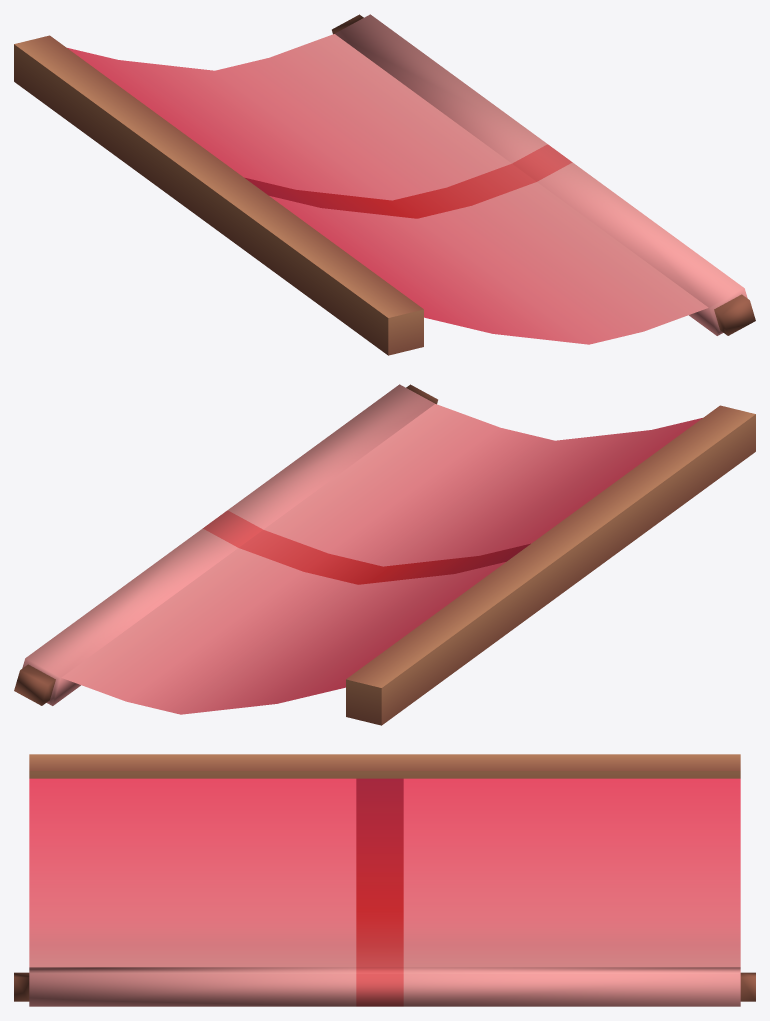
File: Parasol06.fbx
3 views of the same model, one above another, from view 1: azimuth 30°, elevation 25°; view 2: azimuth 150°, elevation 25°; view 3: azimuth 270°, elevation 25° (orthographic). The views are drawn at different scales.
Parts seen in each view (by area): view 1: Parasol06; view 2: Parasol06; view 3: Parasol06.
Part boxes in pixels (bbox=[...]): Parasol06: bbox=[14, 14, 755, 355]; Parasol06: bbox=[14, 384, 755, 725]; Parasol06: bbox=[14, 754, 755, 1006].
Bounding box in the file's own units: 0.8901 × 0.2294 × 1.65.
1 material, 1 textured.
